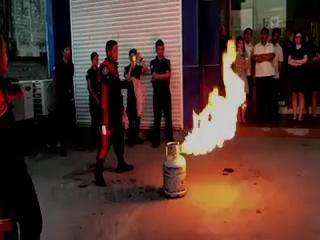Fire: (178, 34, 254, 159)
